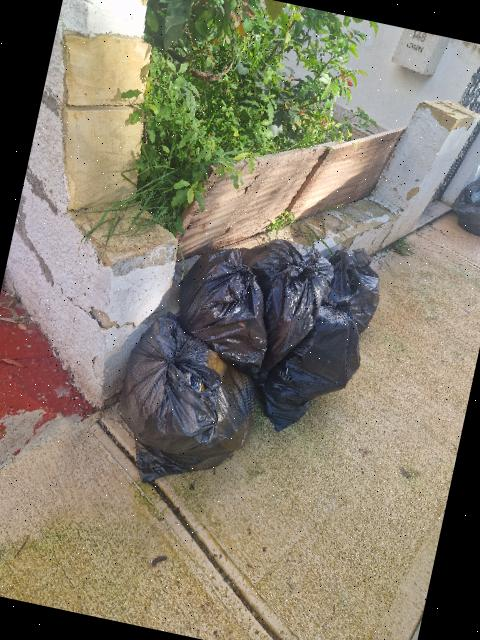Mixed -Black-: (241, 239, 333, 383), (260, 301, 360, 431), (179, 248, 267, 376), (323, 249, 379, 333), (452, 177, 480, 236)
Recyclable -Grey-: (119, 312, 254, 482)
